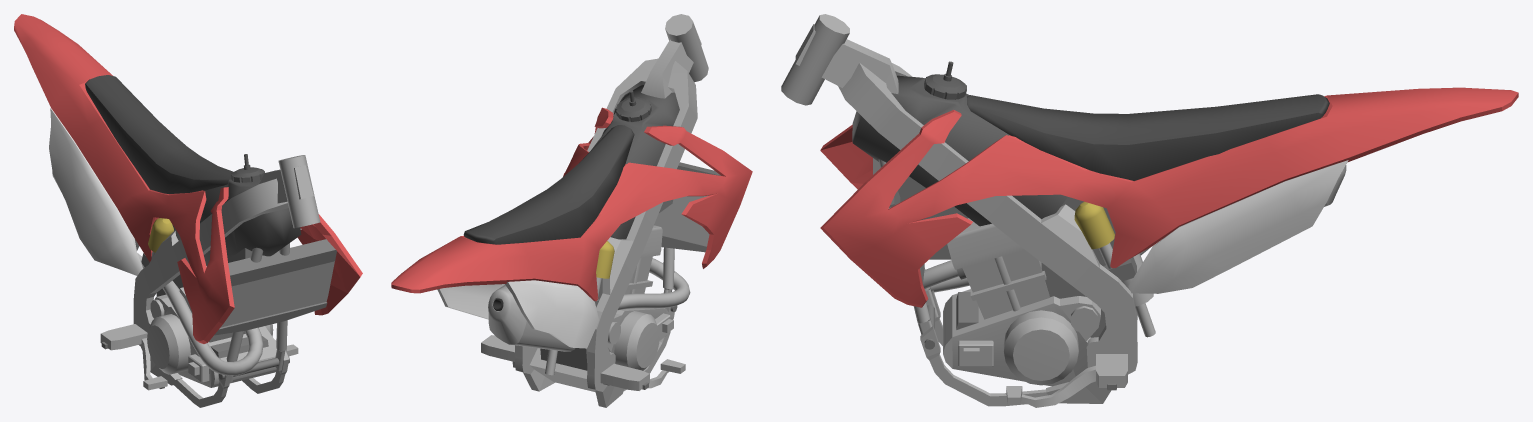
The model's file is bike_motard_body.fbx.
3 renders of one model, left to right at view 1: azimuth 30°, elevation 25°; view 2: azimuth 150°, elevation 25°; view 3: azimuth 270°, elevation 25°, orthographic. The views are drawn at different scales.
Visible parts, largest first — view 1: polySurface221; view 2: polySurface221; view 3: polySurface221.
Part boxes in pixels (<box>): polySurface221: <box>14,14,362,407</box>; polySurface221: <box>391,14,752,407</box>; polySurface221: <box>781,14,1518,407</box>.
Bounding box in the file's own units: 42.51 × 75.35 × 136.
